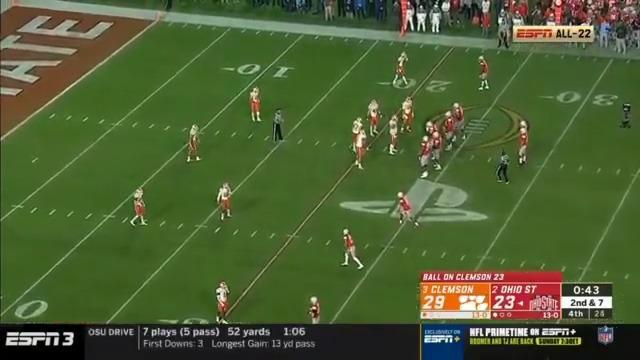defense: (214, 181, 233, 225), (352, 128, 370, 172), (184, 122, 202, 164), (214, 280, 231, 322), (132, 186, 149, 227), (247, 84, 264, 124), (386, 113, 401, 157), (350, 116, 368, 152), (391, 52, 409, 87), (365, 99, 381, 138), (399, 96, 415, 135)
oline: (444, 111, 461, 152), (449, 101, 466, 141), (417, 136, 432, 181), (431, 133, 442, 170), (424, 121, 442, 139)
qb: (518, 128, 529, 167)
ref: (496, 12, 512, 52), (495, 151, 510, 186), (272, 107, 286, 144)
skill: (340, 228, 365, 272), (395, 191, 422, 230), (477, 54, 494, 92), (307, 295, 320, 324), (518, 119, 530, 132)
